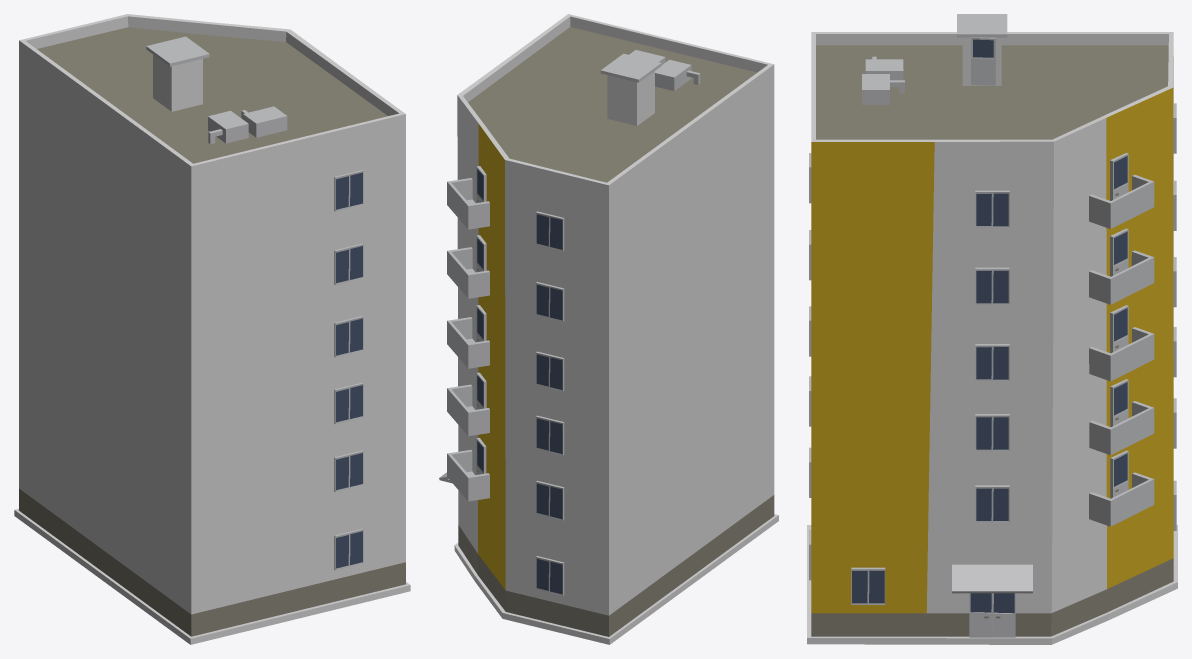
The model's file is apartment_complex_02.glb.
The picture shows the model from 3 angles, left to right: view 1: azimuth 30°, elevation 25°; view 2: azimuth 150°, elevation 25°; view 3: azimuth 270°, elevation 25°; orthographic projection. The views are drawn at different scales.
Parts seen in each view (by area): view 1: Cube.006; view 2: Cube.006; view 3: Cube.006.
Part boxes in pixels (x1,y1,x2,y2): Cube.006: (14,14,410,644); Cube.006: (439,14,778,644); Cube.006: (807,14,1177,644).
Bounding box in the file's own units: 1.77 × 3.54 × 2.19.
